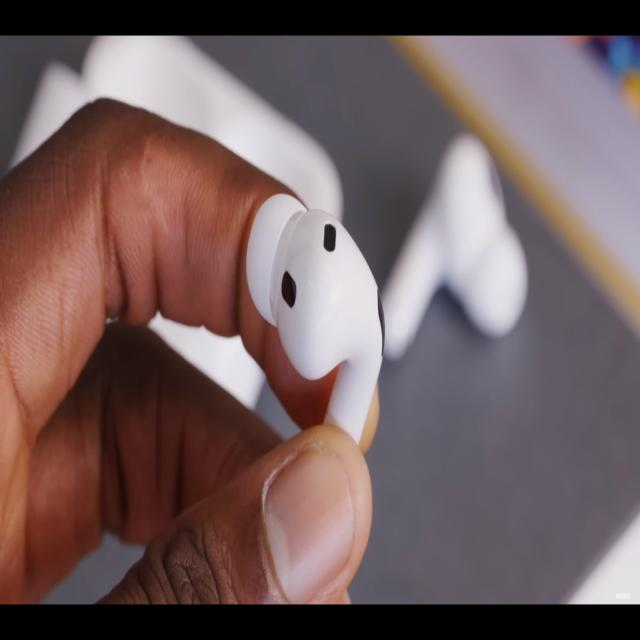airpods: (244, 186, 388, 452), (381, 125, 530, 363)
